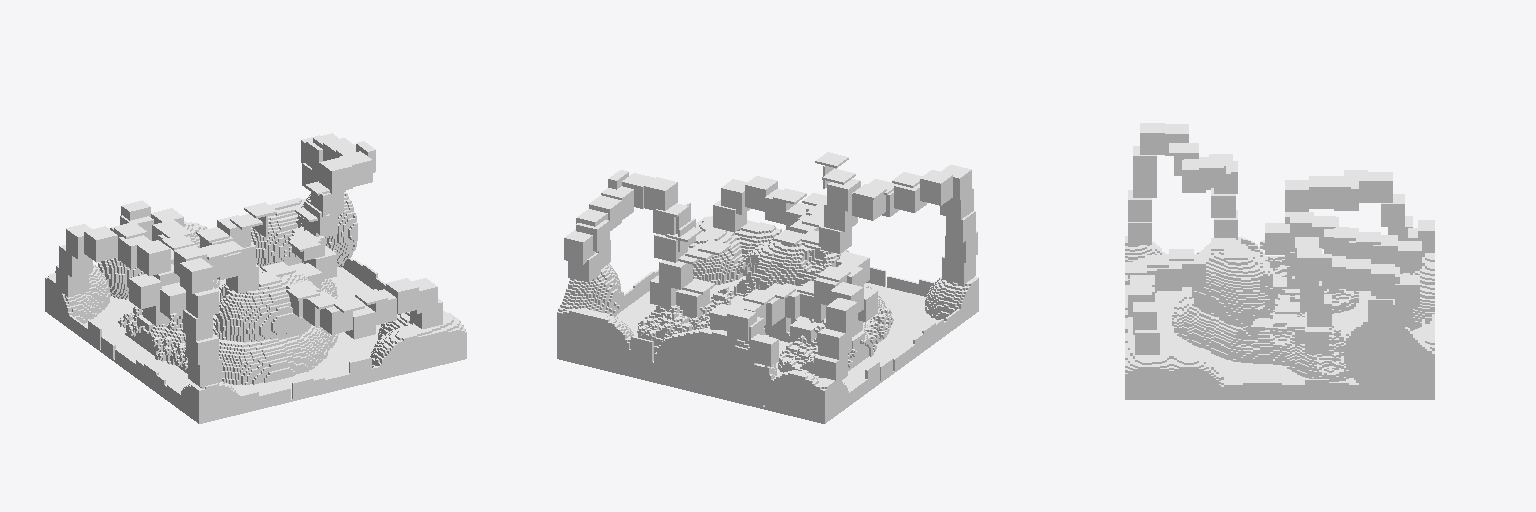
File: corbin-track.obj
The picture shows the model from 3 angles: view 1: azimuth 30°, elevation 25°; view 2: azimuth 150°, elevation 25°; view 3: azimuth 270°, elevation 25°; orthographic projection.
Visible parts, largest first — view 1: corbin-track; view 2: corbin-track; view 3: corbin-track.
Part boxes in pixels (bbox=[...]): corbin-track: bbox=[45, 133, 466, 423]; corbin-track: bbox=[557, 152, 978, 423]; corbin-track: bbox=[1125, 123, 1434, 399].
Size of the model in its own units: 126 by 71 by 126.